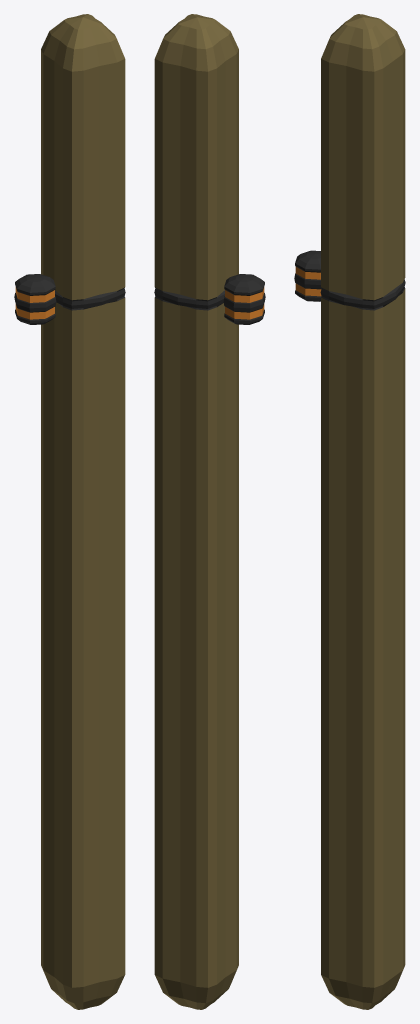
Rendered from Pencase_1_JBischer.fbx.
The picture shows the model from 3 angles, left to right: view 1: azimuth 30°, elevation 25°; view 2: azimuth 150°, elevation 25°; view 3: azimuth 330°, elevation 25°; orthographic projection.
Visible parts, largest first — view 1: Sphere; view 2: Sphere; view 3: Sphere.
Boxes of the visible parts, left/top/right/bottom form: Sphere: left=14, top=14, right=125, bottom=1009; Sphere: left=154, top=14, right=265, bottom=1009; Sphere: left=294, top=14, right=405, bottom=1009.
Bounding box in the file's own units: 82.99 × 785 × 55.36.
